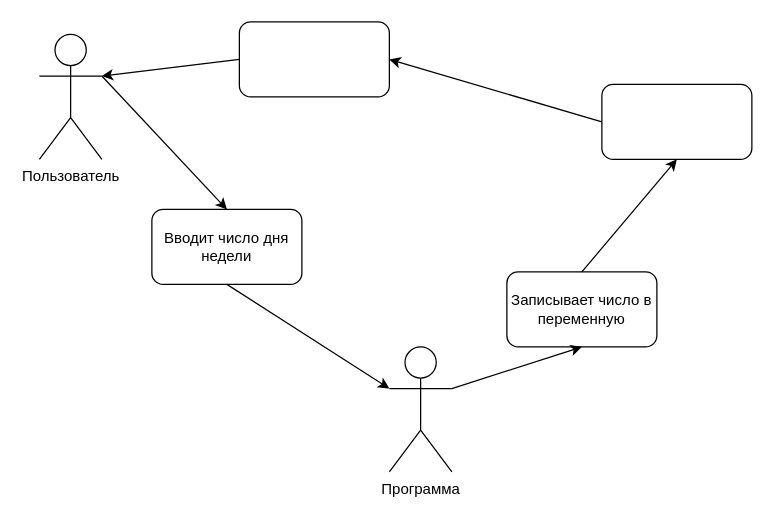
Image size: 774x520. Some labels were removed from this diagram. Here are the shapes that lost their labels. From the top down, the box of each, then its label:
(238, 21, 389, 97): Получает число недели
(601, 83, 752, 159): Программа выводит на консоль день недели
